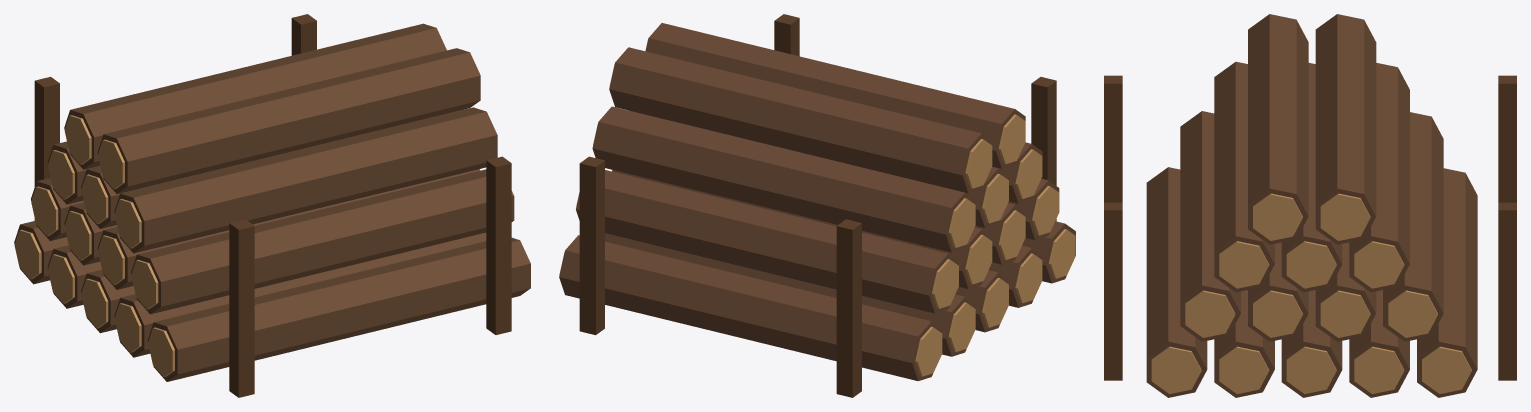
Rendered from prop_log_pile.glb.
3 renders of one model, left to right at view 1: azimuth 30°, elevation 25°; view 2: azimuth 150°, elevation 25°; view 3: azimuth 270°, elevation 25°, orthographic.
Parts seen in each view (by area): view 1: prop_log_pile.001; view 2: prop_log_pile.001; view 3: prop_log_pile.001.
Boxes of the visible parts, x1=… form: prop_log_pile.001: x1=14, y1=14, x2=530, y2=397; prop_log_pile.001: x1=559, y1=14, x2=1075, y2=397; prop_log_pile.001: x1=1104, y1=14, x2=1516, y2=397.
Size of the model in its own units: 2.23 by 1.25 by 2.2.
1 material, 1 textured.
